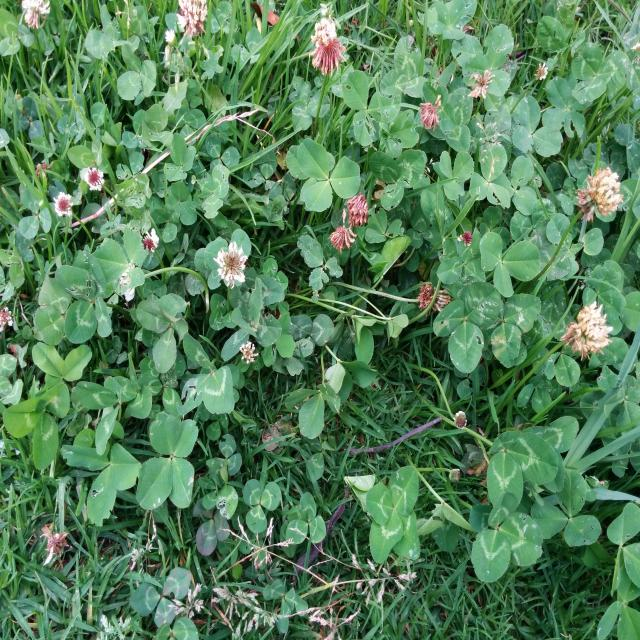Four Leaf Clover: (136, 411, 199, 510), (369, 465, 420, 564)
